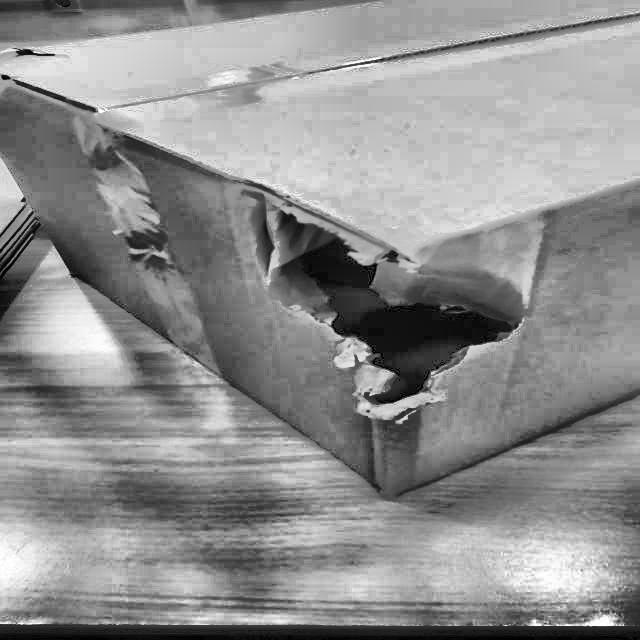box: (0, 0, 639, 514)
hole: (253, 200, 537, 418)
